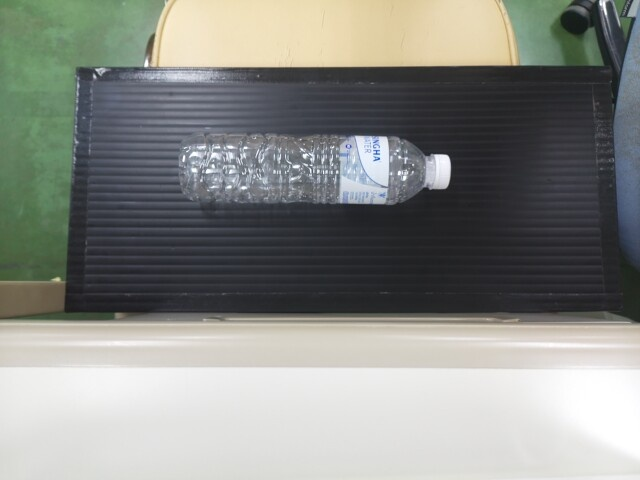plastic_bottle: (177, 133, 452, 206)
